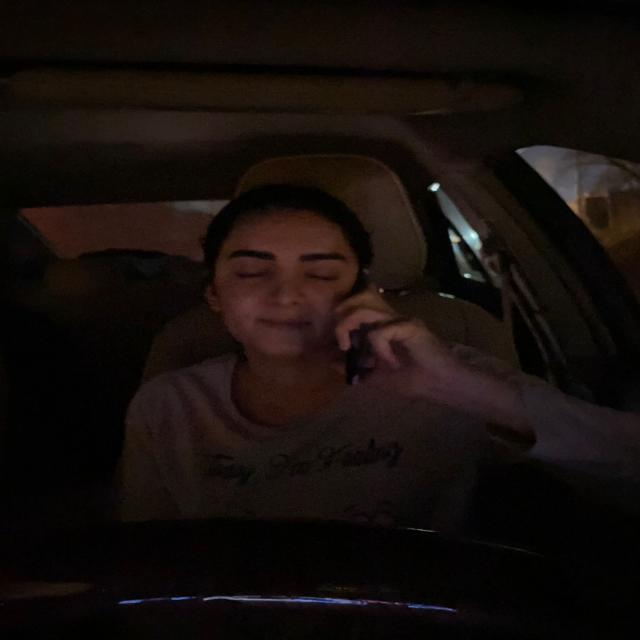mobile: (345, 275, 388, 390)
person: (214, 199, 348, 364)
